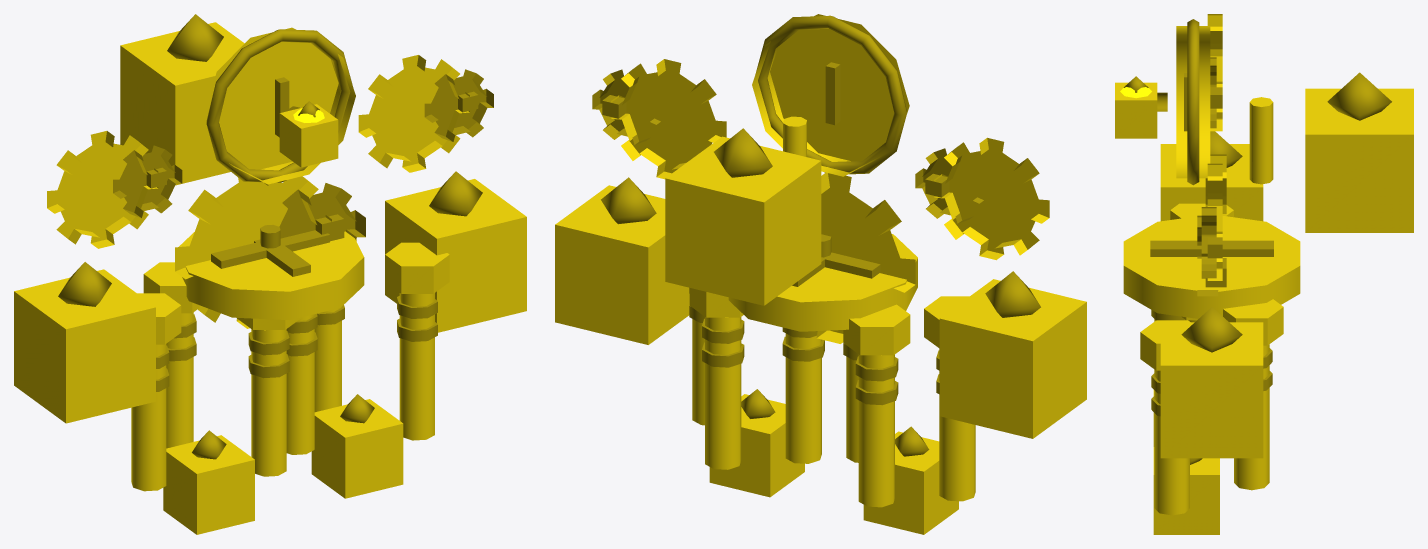
Rendered from golem_037.glb.
3 renders of one model, left to right at view 1: azimuth 30°, elevation 25°; view 2: azimuth 150°, elevation 25°; view 3: azimuth 270°, elevation 25°, orthographic. The views are drawn at different scales.
Visible parts, largest first — view 1: Body, Detail; view 2: Body, Detail; view 3: Body, Detail.
Part boxes in pixels (<box>): Body: <box>14,22,526,534</box>; Detail: <box>58,14,493,459</box>; Body: <box>555,14,1086,534</box>; Detail: <box>592,15,1040,456</box>; Body: <box>1115,14,1413,534</box>; Detail: <box>1123,19,1391,464</box>.
Size of the model in its own units: 1.55 by 1.5 by 0.8857.
